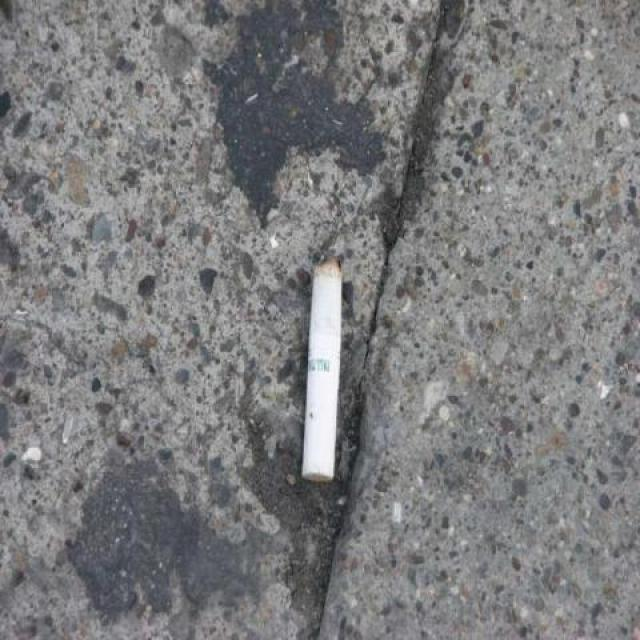non-organic waste: (296, 245, 349, 488)
